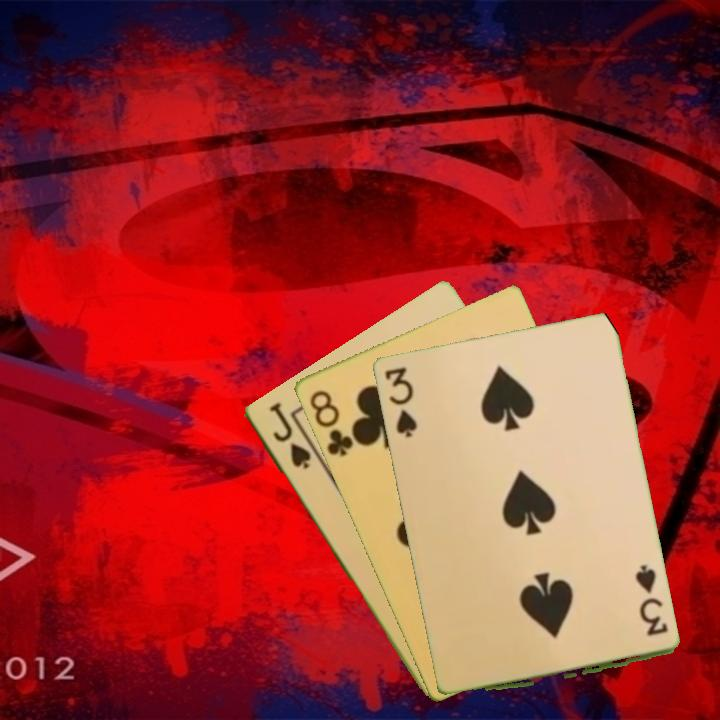3s: (380, 363, 420, 440), (631, 565, 670, 639)
8c: (305, 386, 356, 460)
Js: (265, 400, 313, 472)
